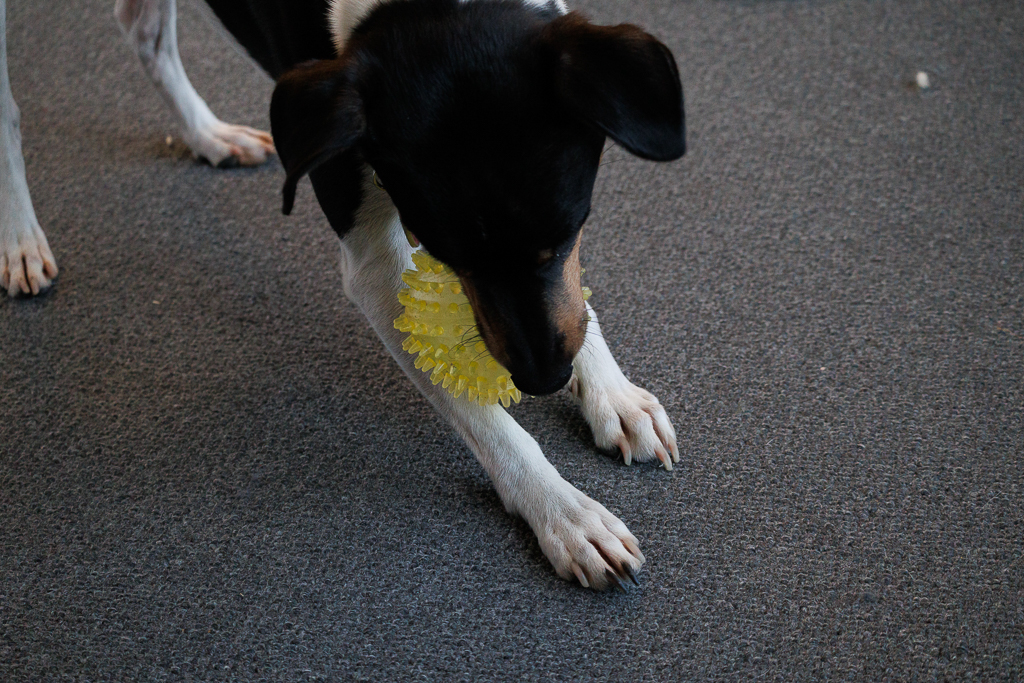Dog: (0, 0, 698, 600)
